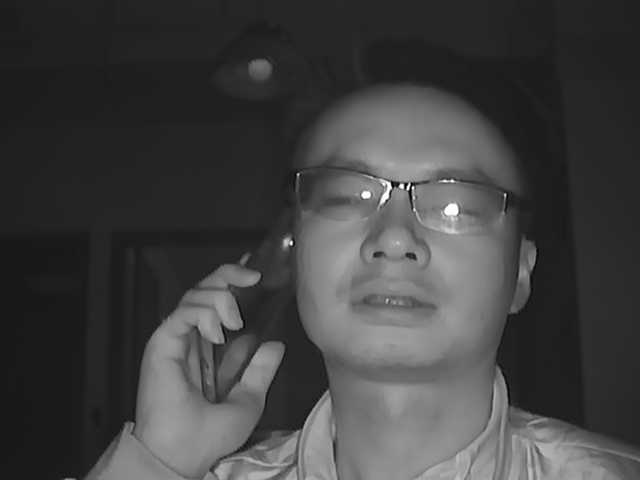hand: (136, 260, 283, 453)
